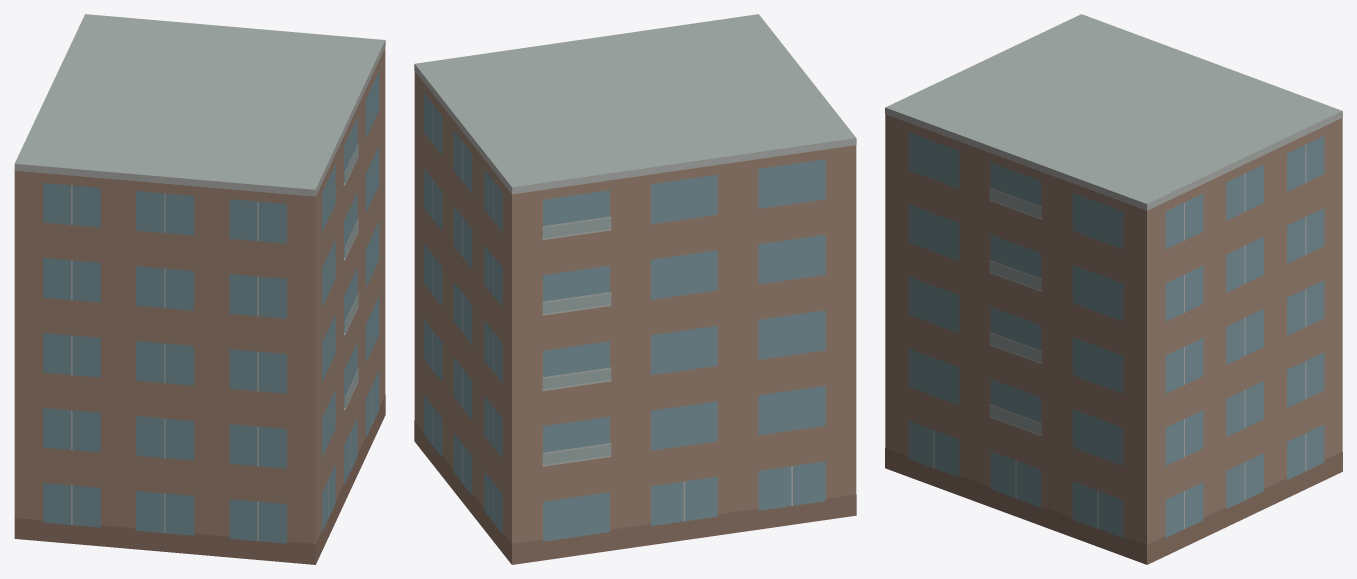
Rendered from survey-upis-32886936.glb.
3 renders of one model, left to right at view 1: azimuth 30°, elevation 25°; view 2: azimuth 150°, elevation 25°; view 3: azimuth 270°, elevation 25°, orthographic. The views are drawn at different scales.
Parts seen in each view (by area): view 1: survey-upis-32886936.tmp; view 2: survey-upis-32886936.tmp; view 3: survey-upis-32886936.tmp.
Part boxes in pixels (bbox=[...]): survey-upis-32886936.tmp: bbox=[14, 14, 385, 564]; survey-upis-32886936.tmp: bbox=[414, 14, 856, 564]; survey-upis-32886936.tmp: bbox=[885, 14, 1342, 564].
Size of the model in its own units: 14.93 by 13.2 by 15.18.
